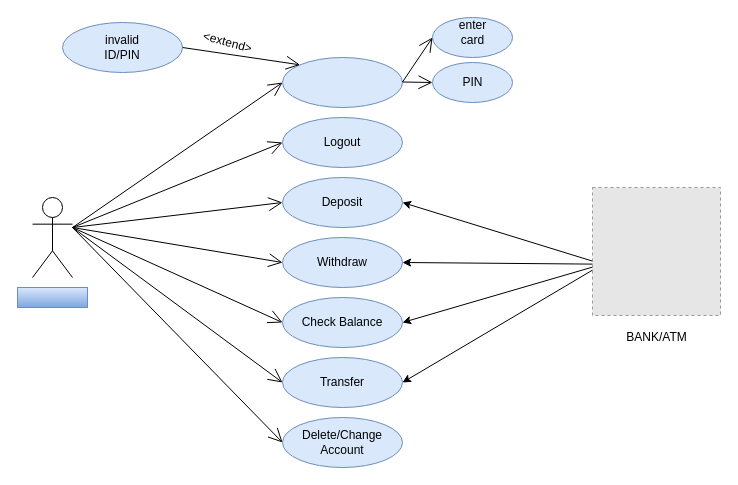
This 738x485 diagram has some shape labels left out. Grey dashed boxes stand in for pictures. Each missing label, with the box of its shape:
Actor: (32, 196, 72, 278)
Costomer: (16, 286, 88, 308)
Login: (282, 56, 402, 108)
